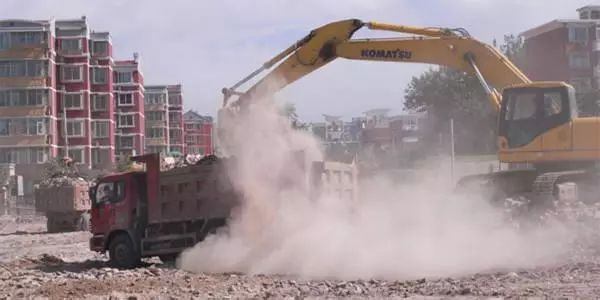dust: (220, 108, 549, 268)
